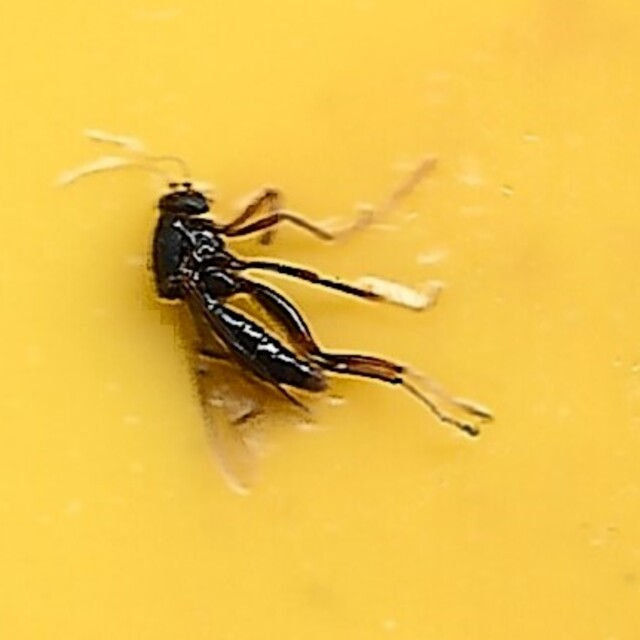Brachycera: (148, 167, 492, 473)
